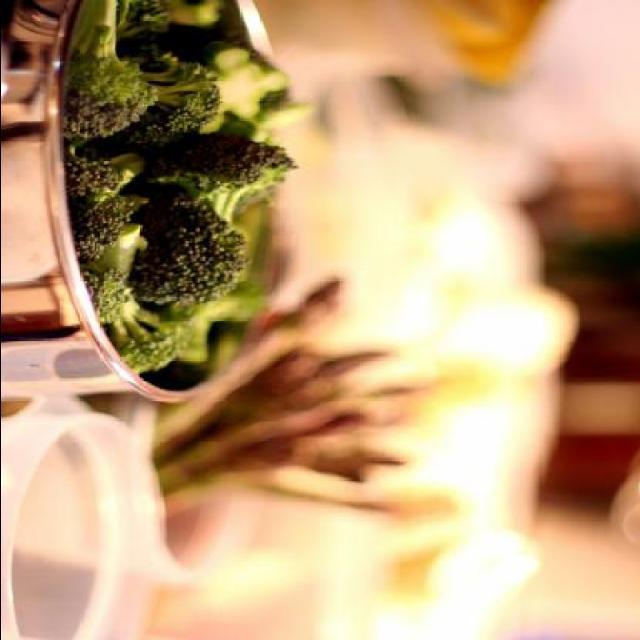Broccoli: (63, 0, 315, 377)
